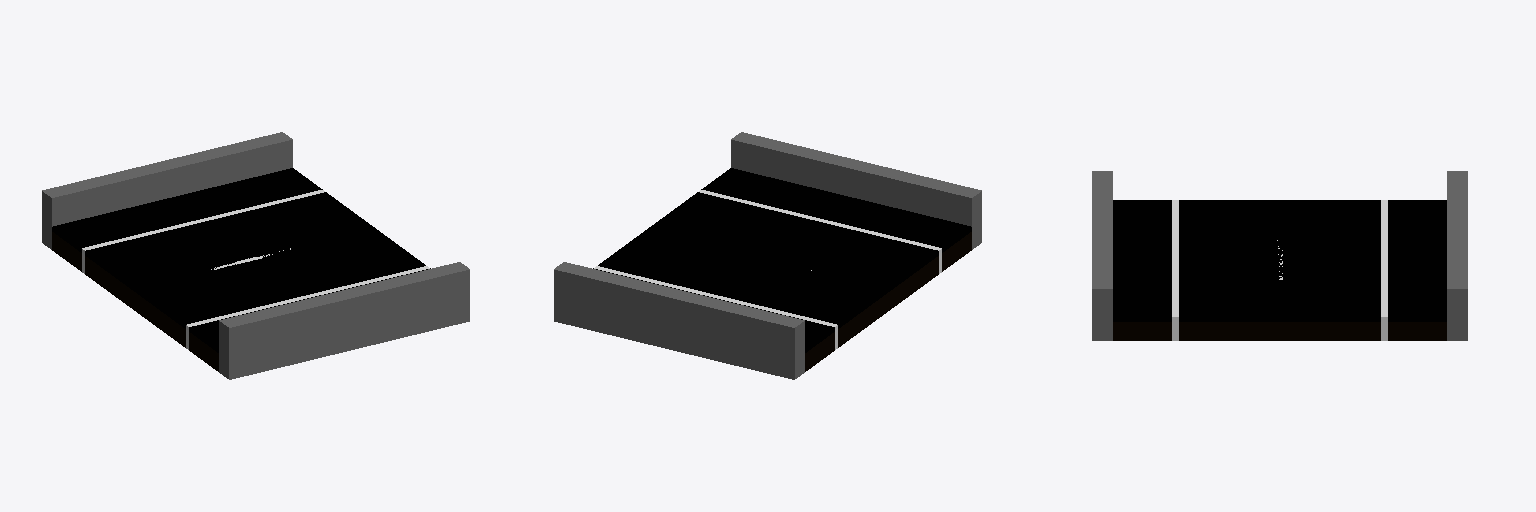
File: road2.obj
3 renders of one model, left to right at view 1: azimuth 30°, elevation 25°; view 2: azimuth 150°, elevation 25°; view 3: azimuth 270°, elevation 25°, orthographic.
Visible parts, largest first — view 1: Road2; view 2: Road2; view 3: Road2.
Part boxes in pixels (bbox=[...]): Road2: bbox=[42, 132, 469, 379]; Road2: bbox=[554, 132, 981, 379]; Road2: bbox=[1092, 171, 1467, 340].
Bounding box in the file's own units: 5.33 × 1.1 × 7.2.